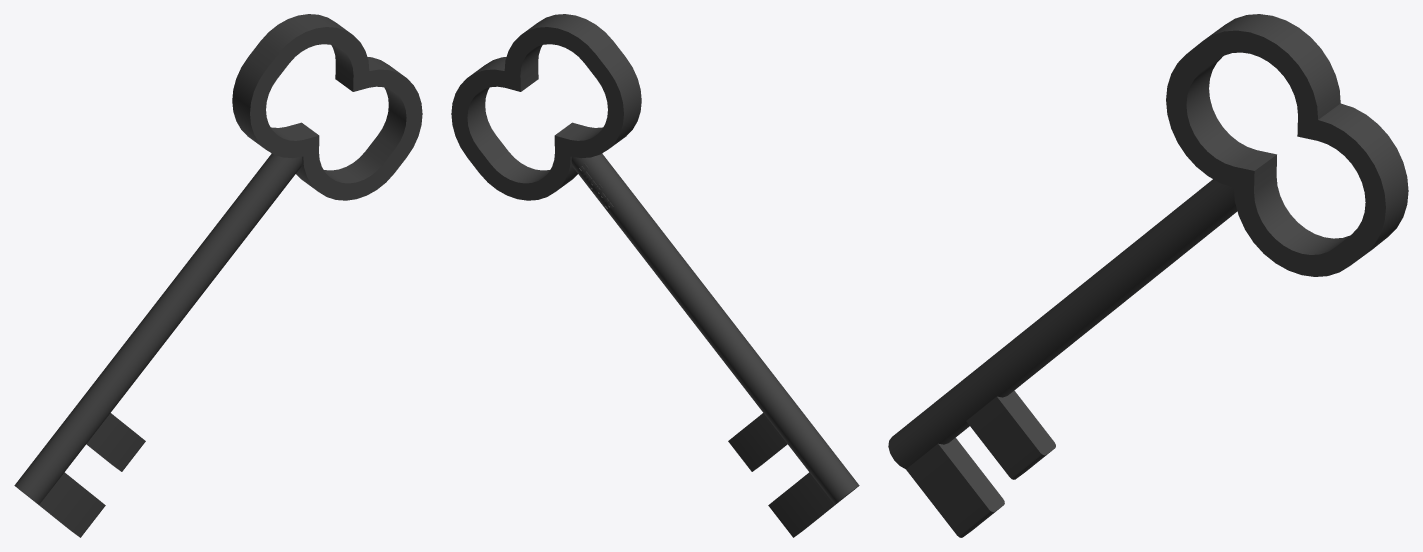
File: old_key.fbx
The picture shows the model from 3 angles, left to right: view 1: azimuth 30°, elevation 25°; view 2: azimuth 150°, elevation 25°; view 3: azimuth 330°, elevation 25°; orthographic projection. The views are drawn at different scales.
Visible parts, largest first — view 1: Circle.2582; view 2: Circle.2582; view 3: Circle.2582.
Boxes of the visible parts, x1,y1,x2,y2 form: Circle.2582: (14,14,422,537); Circle.2582: (451,14,859,537); Circle.2582: (888,14,1408,537).
Bounding box in the file's own units: 200 × 220 × 15.49.
Materials: 1 (1 with a texture image).
